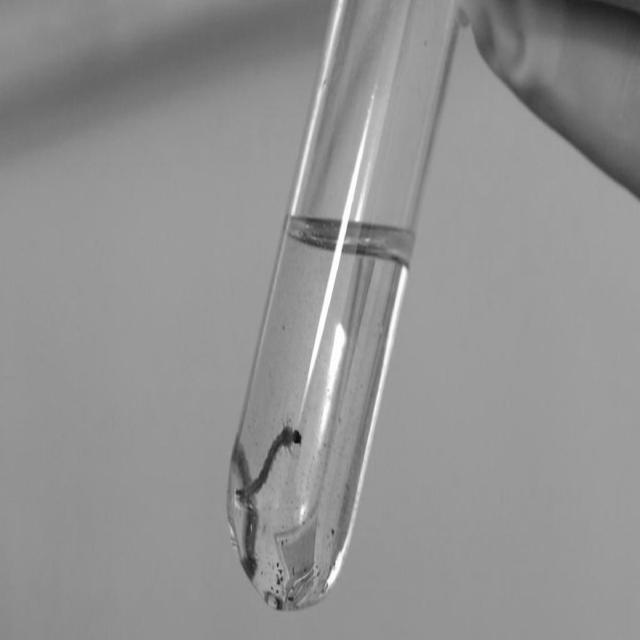larvas: (234, 426, 301, 501), (236, 490, 257, 578)
